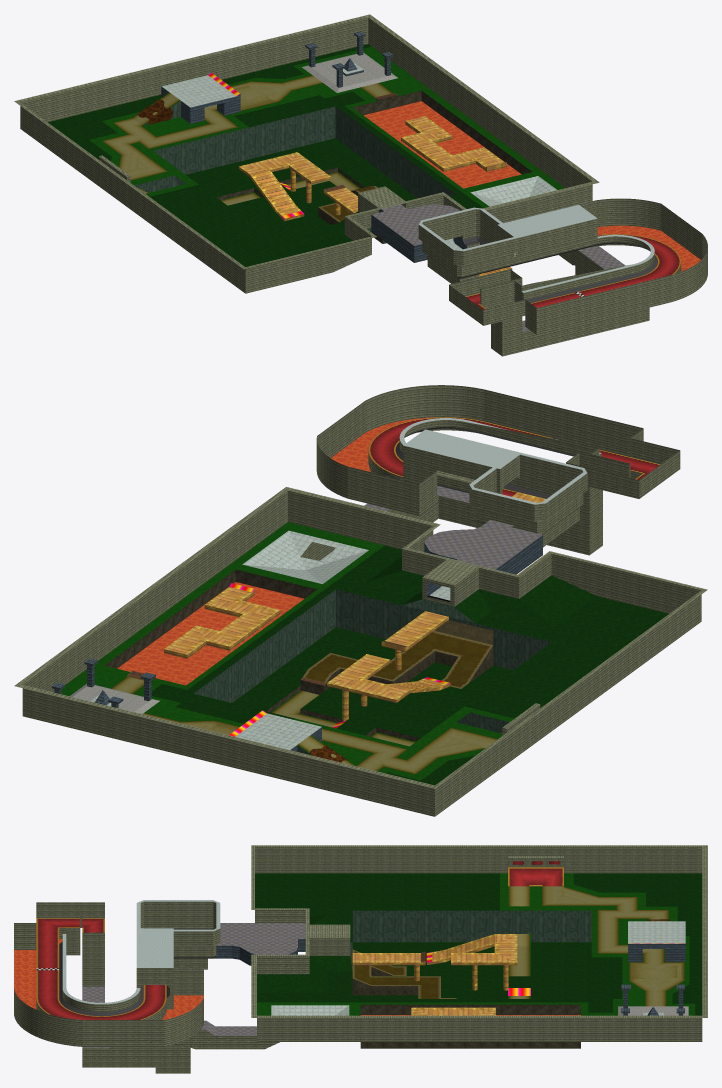
3 views of the same model, one above another, from view 1: azimuth 30°, elevation 25°; view 2: azimuth 150°, elevation 25°; view 3: azimuth 270°, elevation 25° (orthographic). The views are drawn at different scales.
Visible parts, largest first — view 1: Race-SKP--Material2.007, Race-SKP--Material8.004, Race-SKP--Material9.004, Race-SKP--Material7.005, Race-SKP--Material12.003, Race-SKP--Material6.005, Race-SKP--Road1.004, Race-SKP--Material5.005, Race-SKP--Material4.006, Race-SKP--Material11.003, Race-SKP--Material1.007, Race-SKP--Underside.001 (+4 smaller); view 2: Race-SKP--Material2.007, Race-SKP--Material8.004, Race-SKP--Material9.004, Race-SKP--Material7.005, Race-SKP--Material12.003, Race-SKP--Material6.005, Race-SKP--Road1.004, Race-SKP--Material4.006, Race-SKP--Material11.003, Race-SKP--Material3.007, Race-SKP--Material10.004, Race-SKP--Material1.007 (+6 smaller); view 3: Race-SKP--Material2.007, Race-SKP--Material8.004, Race-SKP--Material9.004, Race-SKP--Material12.003, Race-SKP--Road.005, Race-SKP--Material7.005, Race-SKP--Material11.003, Race-SKP--Material3.007, Race-SKP--Material1.007, Race-SKP--Road1.004, Race-SKP--Material4.006, Race-SKP--Material6.005 (+5 smaller).
Boxes of the visible parts, left/top/right/bottom form: Race-SKP--Material2.007: left=14, top=14, right=707, bottom=356; Race-SKP--Material8.004: left=48, top=44, right=483, bottom=267; Race-SKP--Material9.004: left=134, top=101, right=455, bottom=243; Race-SKP--Material7.005: left=89, top=46, right=564, bottom=207; Race-SKP--Material12.003: left=101, top=75, right=392, bottom=205; Race-SKP--Material6.005: left=364, top=101, right=700, bottom=271; Race-SKP--Road1.004: left=239, top=116, right=504, bottom=212; Race-SKP--Material5.005: left=161, top=31, right=466, bottom=262; Race-SKP--Material4.006: left=162, top=62, right=557, bottom=249; Race-SKP--Material11.003: left=216, top=90, right=532, bottom=243; Race-SKP--Material1.007: left=419, top=205, right=654, bottom=292; Race-SKP--Underside.001: left=238, top=121, right=511, bottom=276; Race-SKP--Material2.007: left=14, top=385, right=707, bottom=816; Race-SKP--Material8.004: left=151, top=545, right=668, bottom=785; Race-SKP--Material9.004: left=194, top=589, right=551, bottom=754; Race-SKP--Material7.005: left=61, top=522, right=514, bottom=780; Race-SKP--Material12.003: left=110, top=676, right=502, bottom=774; Race-SKP--Material6.005: left=117, top=417, right=434, bottom=685; Race-SKP--Road1.004: left=164, top=492, right=545, bottom=699; Race-SKP--Material4.006: left=90, top=530, right=450, bottom=749; Race-SKP--Material11.003: left=105, top=569, right=493, bottom=741; Race-SKP--Material3.007: left=364, top=486, right=542, bottom=569; Race-SKP--Material10.004: left=303, top=631, right=492, bottom=688; Race-SKP--Material1.007: left=399, top=418, right=600, bottom=504; Race-SKP--Material2.007: left=14, top=845, right=707, bottom=1073; Race-SKP--Material8.004: left=255, top=873, right=702, bottom=1015; Race-SKP--Material9.004: left=350, top=910, right=591, bottom=970; Race-SKP--Material12.003: left=508, top=886, right=685, bottom=1006; Race-SKP--Road.005: left=36, top=860, right=563, bottom=1019; Race-SKP--Material7.005: left=257, top=873, right=695, bottom=1015; Race-SKP--Material11.003: left=352, top=967, right=580, bottom=1048; Race-SKP--Material3.007: left=82, top=923, right=305, bottom=1048; Race-SKP--Material1.007: left=62, top=900, right=220, bottom=1004; Race-SKP--Road1.004: left=352, top=934, right=517, bottom=1015; Race-SKP--Material4.006: left=271, top=921, right=685, bottom=1015; Race-SKP--Material6.005: left=14, top=939, right=580, bottom=1019.
Bounding box in the file's own units: 65657 × 15834 × 106233.
Materials: 23 (23 with a texture image).
